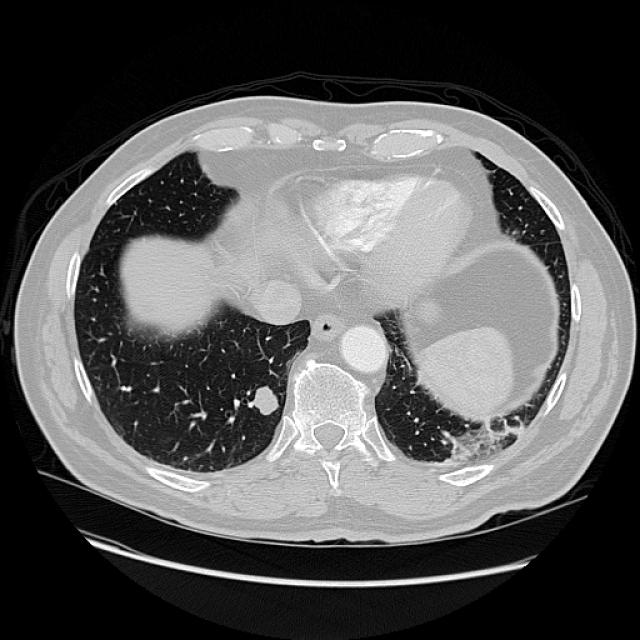nodule: (238, 372, 292, 428)
